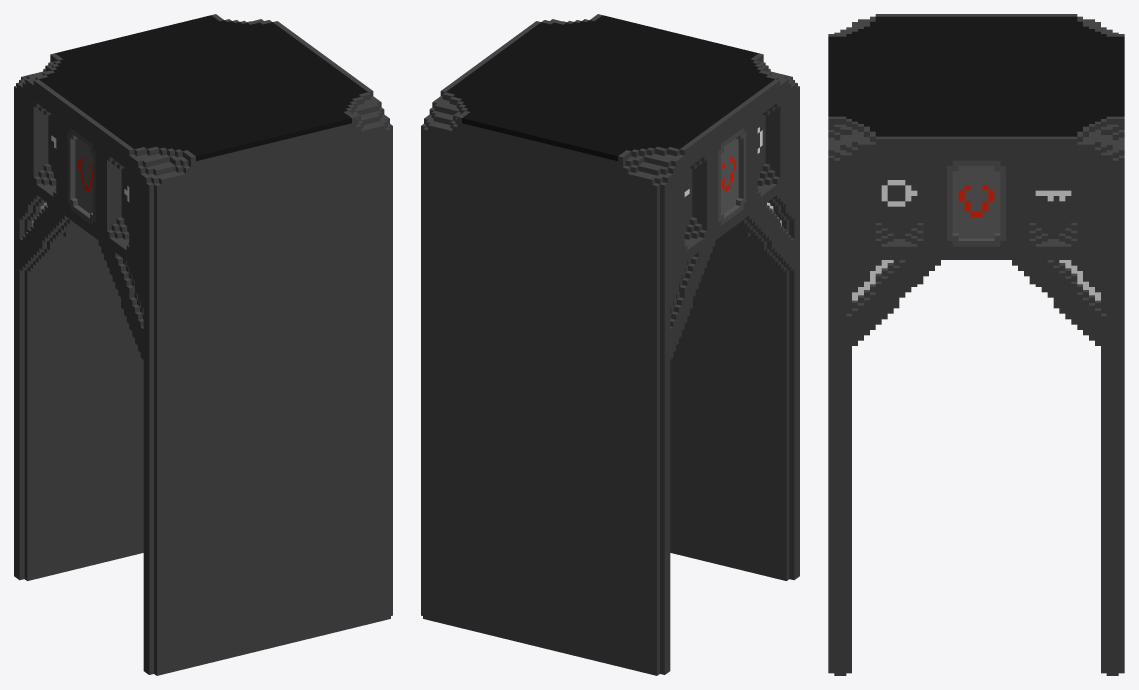
The model's file is 128( дверь с красной руной открытая ).obj.
3 renders of one model, left to right at view 1: azimuth 30°, elevation 25°; view 2: azimuth 150°, elevation 25°; view 3: azimuth 270°, elevation 25°, orthographic. The views are drawn at different scales.
Size of the model in its own units: 5 by 10 by 5.
Materials: 1 (1 with a texture image).
